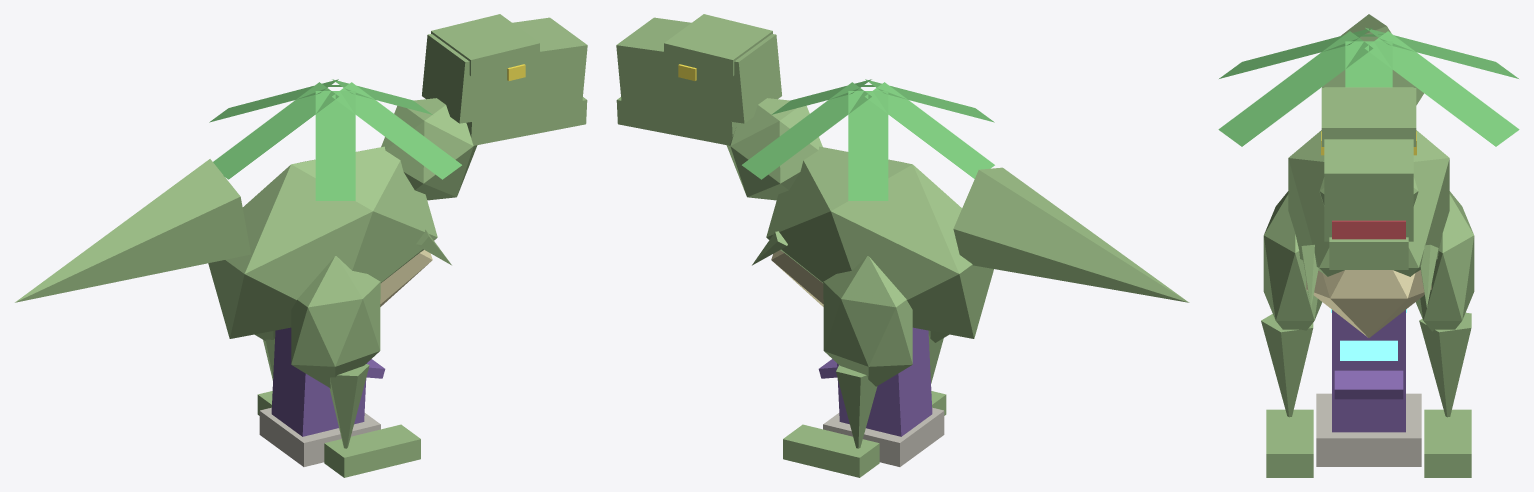
3 views of the same model, side by side, from view 1: azimuth 30°, elevation 25°; view 2: azimuth 150°, elevation 25°; view 3: azimuth 270°, elevation 25° (orthographic). The views are drawn at different scales.
Parts seen in each view (by area): view 1: dBody, dTail1, dSkull, dThigh-1, dNeck, cBody, pLeaf4, dBrow, dFoot-1, pLeaf5, pLeaf3, dJawM (+5 smaller); view 2: dBody, dTail1, dSkull, dThigh1, dNeck, cBody, pLeaf2, dBrow, dFoot1, pLeaf1, pLeaf3, dJawM (+5 smaller); view 3: dBody, dSkull, dBrow, cBody, dBelly, plBase, dThigh-1, dThigh1, pLeaf1, pLeaf5, dFoot1, dFoot-1 (+12 smaller).
Part boxes in pixels (box(x1,y1,x2,y2)): dBody: box(208, 146, 437, 338); dTail1: box(15, 159, 250, 302); dSkull: box(422, 17, 587, 123); dThigh-1: box(291, 256, 380, 388); dNeck: box(381, 98, 477, 200); cBody: box(271, 327, 366, 436); pLeaf4: box(315, 91, 355, 200); dBrow: box(431, 14, 539, 75); dFoot-1: box(324, 424, 420, 477); pLeaf5: box(332, 82, 461, 179); pLeaf3: box(213, 82, 338, 179); dJawM: box(466, 97, 587, 145); dBody: box(766, 146, 993, 338); dTail1: box(953, 167, 1189, 302); dSkull: box(616, 17, 781, 123); dThigh1: box(823, 256, 912, 386); dNeck: box(726, 98, 822, 200); cBody: box(837, 327, 932, 436); pLeaf2: box(848, 91, 888, 200); dBrow: box(664, 14, 772, 75); dFoot1: box(783, 424, 879, 477); pLeaf1: box(742, 82, 871, 179); pLeaf3: box(865, 82, 994, 178); dJawM: box(616, 97, 737, 145); dBody: box(1288, 130, 1449, 276); dSkull: box(1324, 87, 1413, 241); dBrow: box(1321, 88, 1416, 146); cBody: box(1332, 310, 1405, 432); dBelly: box(1306, 270, 1431, 337); plBase: box(1316, 393, 1421, 466); dThigh-1: box(1263, 191, 1322, 330); dThigh1: box(1415, 191, 1474, 331); pLeaf1: box(1364, 31, 1519, 146); pLeaf5: box(1218, 31, 1373, 146); dFoot1: box(1424, 409, 1471, 477); dFoot-1: box(1266, 409, 1313, 477).
Bounding box in the file's own units: 14.47 × 9.09 × 5.72.
